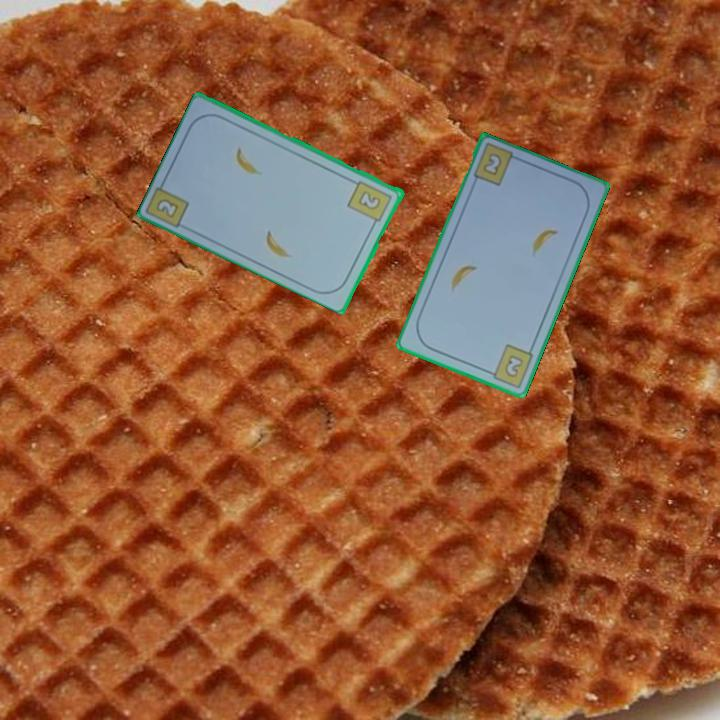2b: (482, 340, 537, 390), (345, 177, 395, 229), (153, 195, 182, 221), (479, 150, 505, 179)
